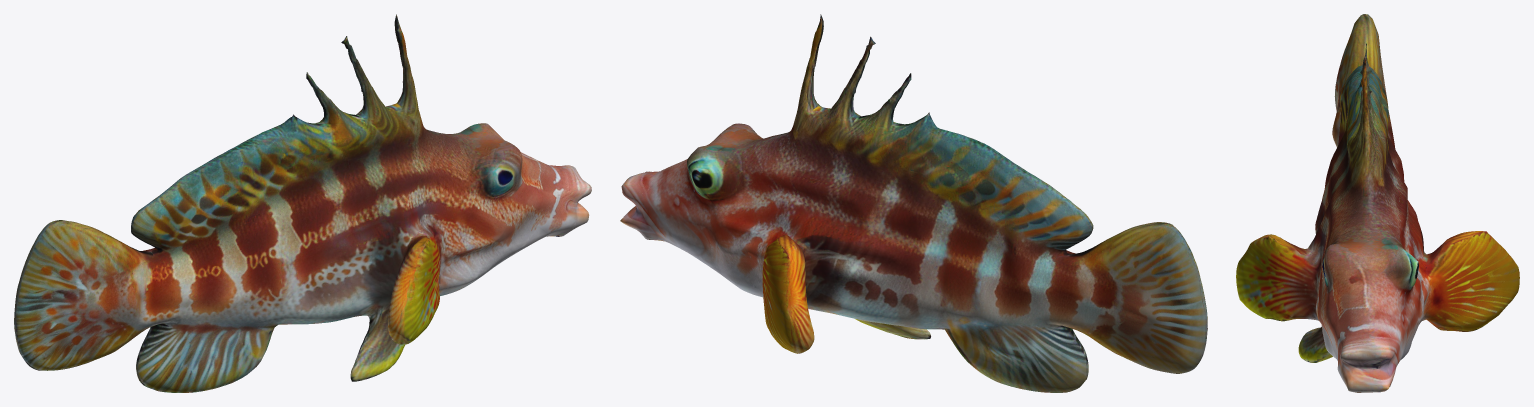
The model's file is hawkfish.glb.
3 renders of one model, left to right at view 1: azimuth 30°, elevation 25°; view 2: azimuth 150°, elevation 25°; view 3: azimuth 270°, elevation 25°, orthographic.
Size of the model in its own units: 1.2 by 0.6599 by 0.5215.
1 material, 1 textured.
